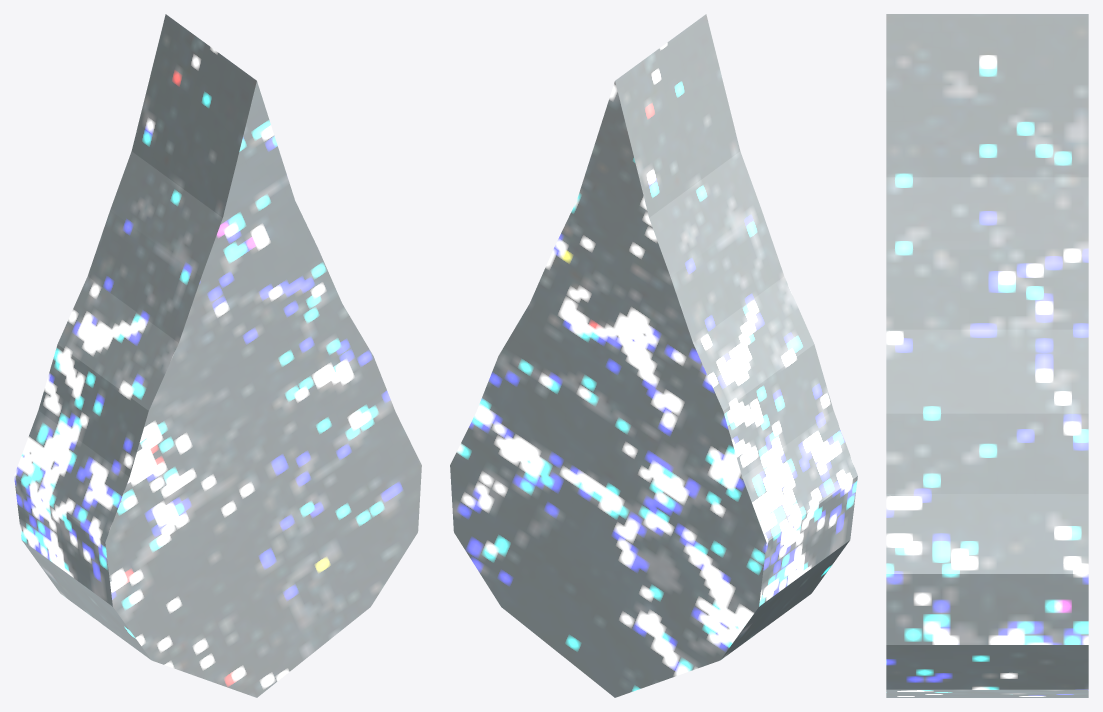
The model's file is Mystic Water Drop Bullet.glb.
3 views of the same model, side by side, from view 1: azimuth 30°, elevation 25°; view 2: azimuth 150°, elevation 25°; view 3: azimuth 270°, elevation 25° (orthographic). The views are drawn at different scales.
Parts seen in each view (by area): view 1: Mystic Water Drop Bullet; view 2: Mystic Water Drop Bullet; view 3: Mystic Water Drop Bullet.
Boxes of the visible parts, x1,y1,x2,y2 form: Mystic Water Drop Bullet: (14, 14, 421, 697); Mystic Water Drop Bullet: (450, 14, 857, 697); Mystic Water Drop Bullet: (886, 14, 1088, 697).
Size of the model in its own units: 0.0508 by 0.0947 by 0.0254.
